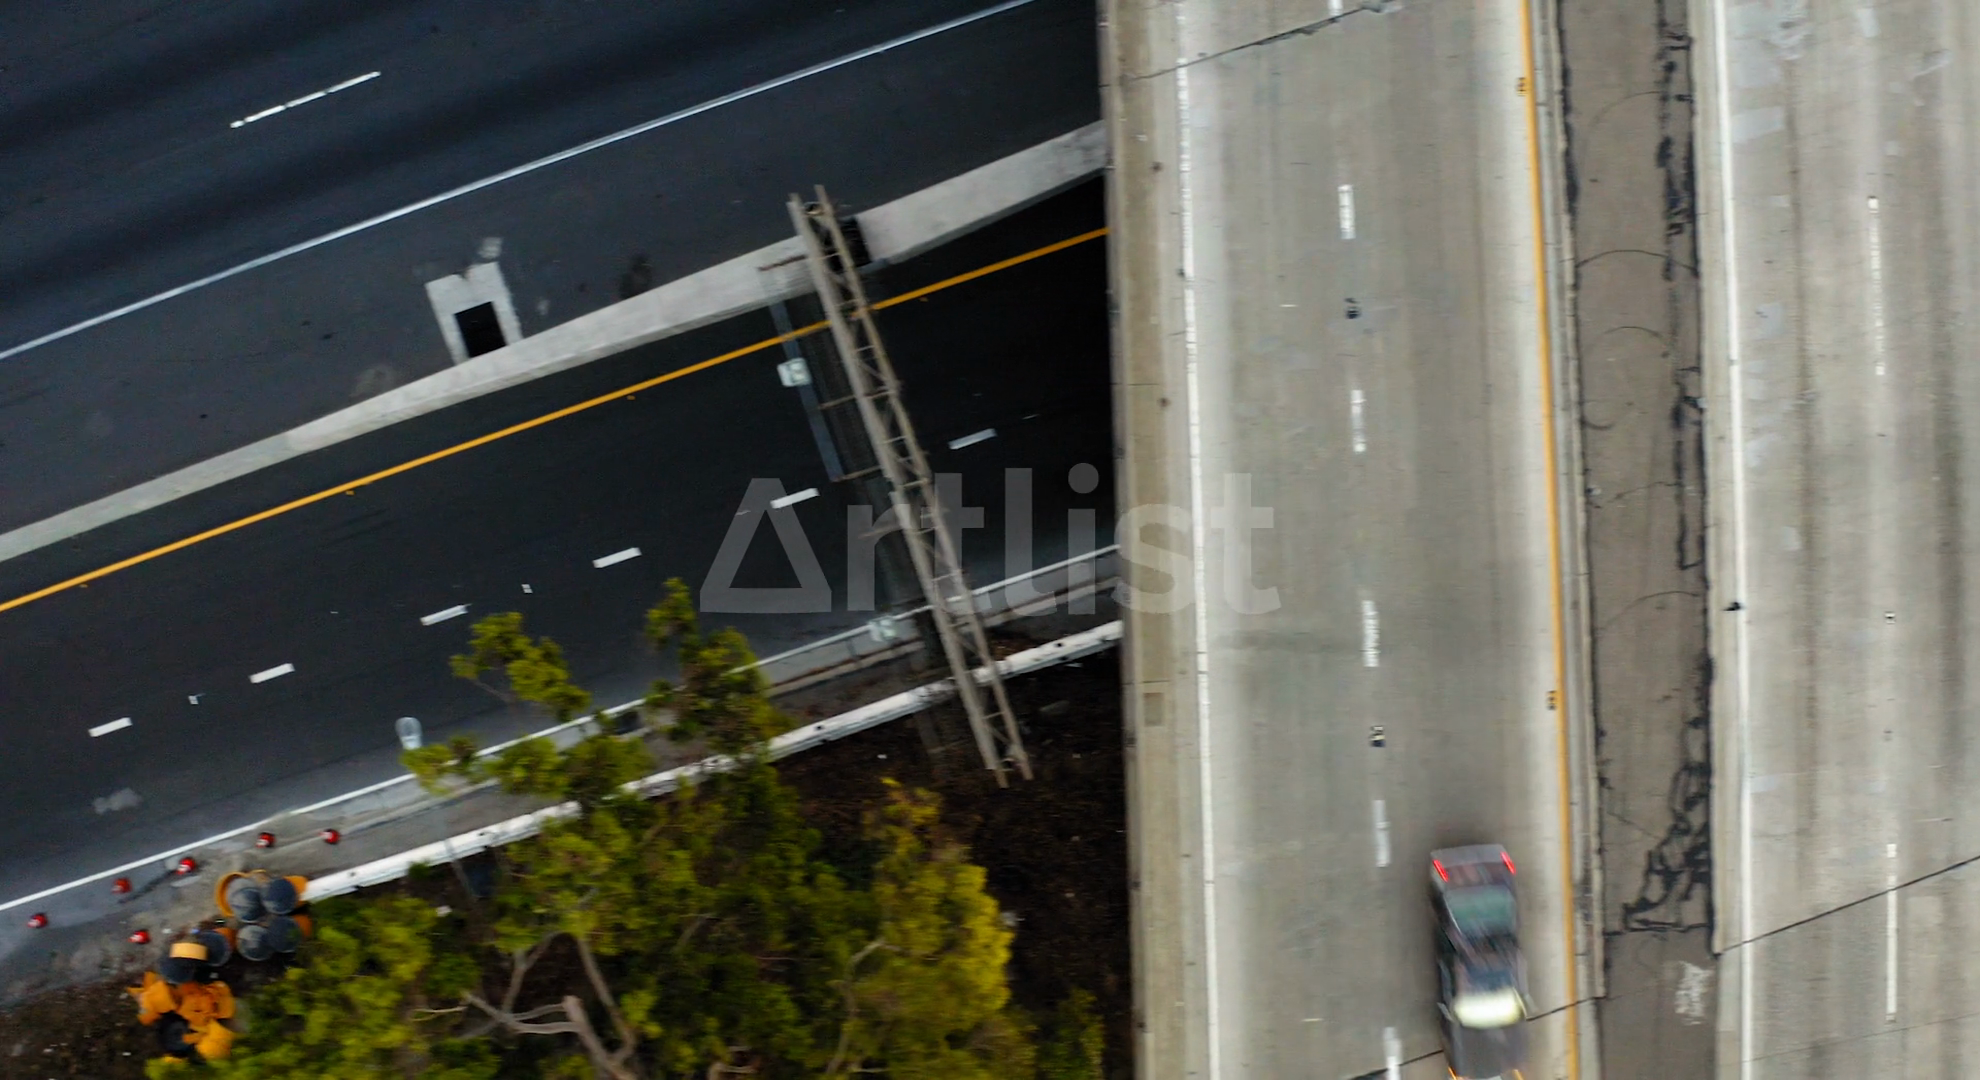car: (1432, 849, 1539, 1059)
roadcone: (109, 870, 134, 902), (316, 827, 343, 853), (24, 907, 47, 935), (259, 826, 277, 859), (130, 924, 146, 952), (174, 853, 193, 874)
